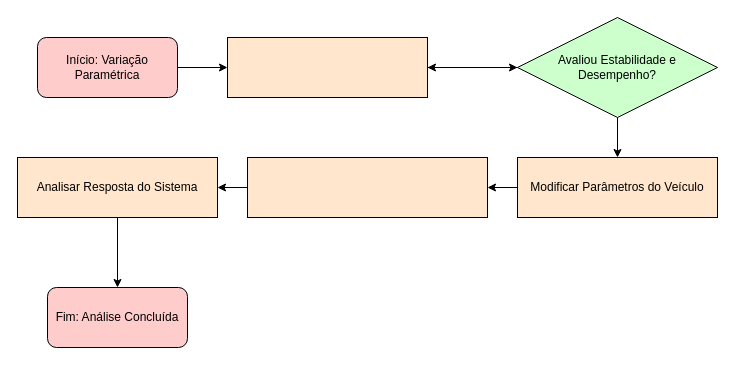
Some shapes in this 735 by 365 pixel diagram are drawn without their labels. The centre of each missing label's shape, as x and y in pixels:
"Ajustar Parâmetros do Controlador PI" belongs at point 327,67.
"Simular Cenários Operacionais Diferentes" belongs at point 367,187.
